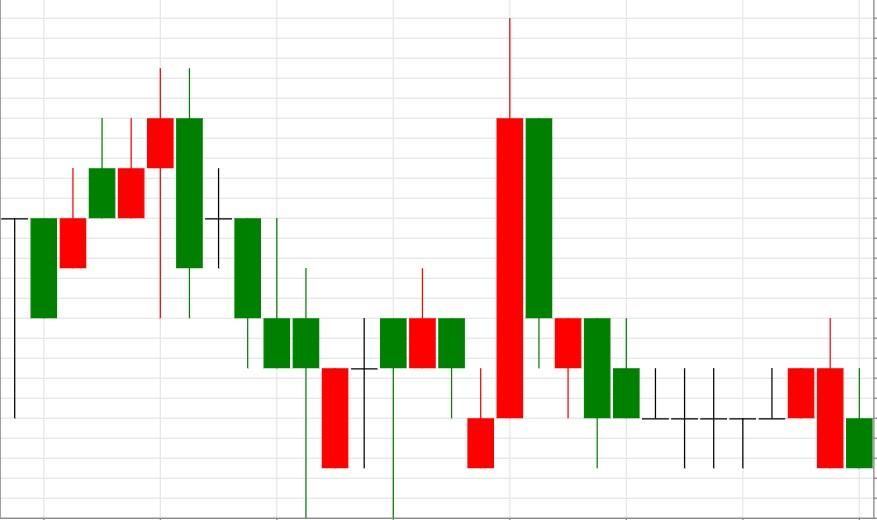bearish_engulfing_fall: (0, 68, 203, 418)
